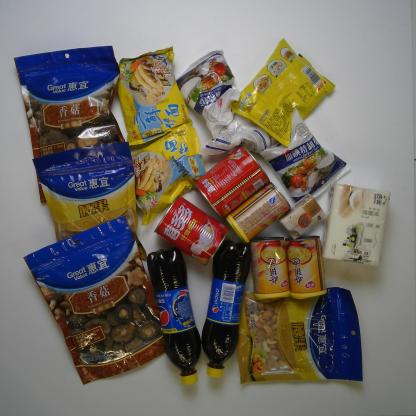Canned Food: (193, 144, 271, 218), (152, 195, 230, 267), (226, 180, 292, 244), (285, 235, 328, 300), (250, 236, 292, 300)
Dried Food: (22, 214, 167, 386), (13, 43, 122, 204)
Dried Fruit: (236, 285, 363, 386), (32, 140, 137, 246)
Drink: (146, 246, 202, 386), (201, 239, 252, 380)
Instant Noodles: (226, 36, 338, 148), (114, 43, 194, 147), (129, 122, 208, 226)
Seasoner: (256, 106, 354, 204), (174, 48, 240, 142), (198, 113, 280, 156)
Tissue: (321, 183, 391, 268), (277, 192, 327, 241)
